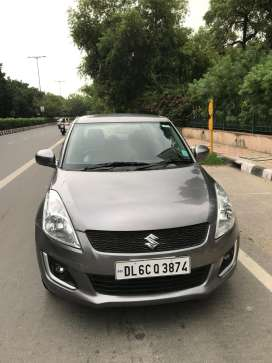license_plate: (115, 262, 191, 278)
